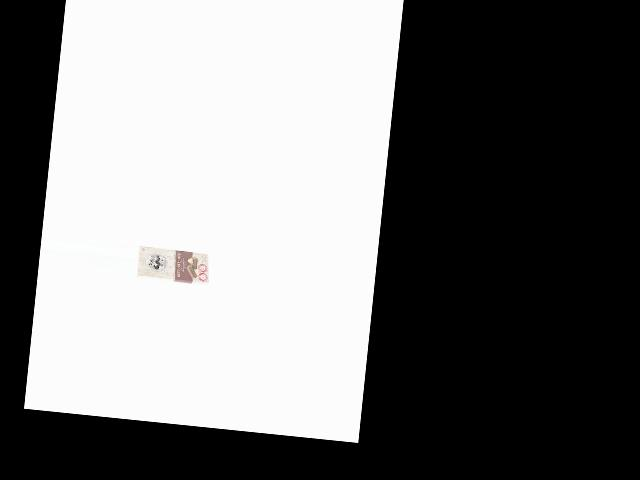chocolate: (135, 244, 213, 291)
